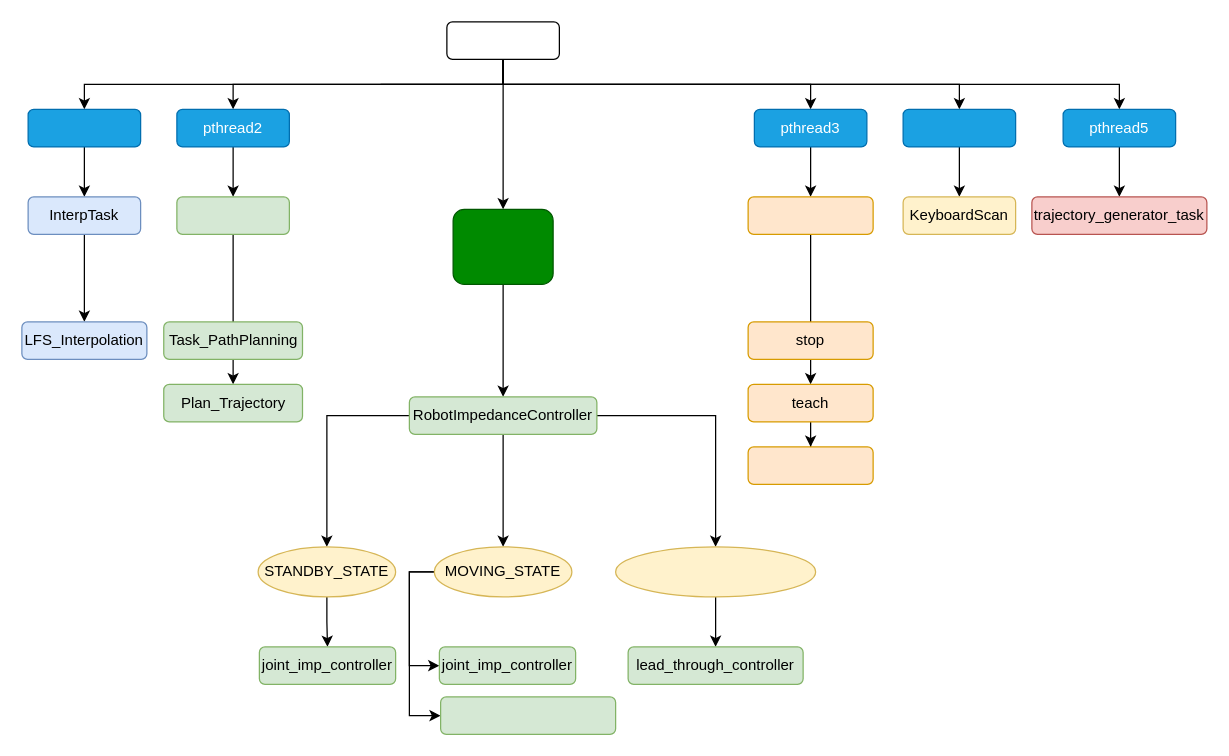
Image size: 1229x756. Some labels were removed from this diagram. Each missing label, with the box of its shape:
auto: (747, 446, 873, 484)
cartesian_imp_controller: (439, 696, 616, 734)
INTERP: (452, 208, 553, 284)
LEAD_THROUGH_STATE: (614, 546, 816, 597)
main: (446, 21, 559, 59)
Plan_Task: (176, 196, 289, 234)
pthread1: (27, 108, 141, 147)
pthread4: (902, 108, 1016, 147)
ReadOnlineData: (747, 196, 873, 234)
